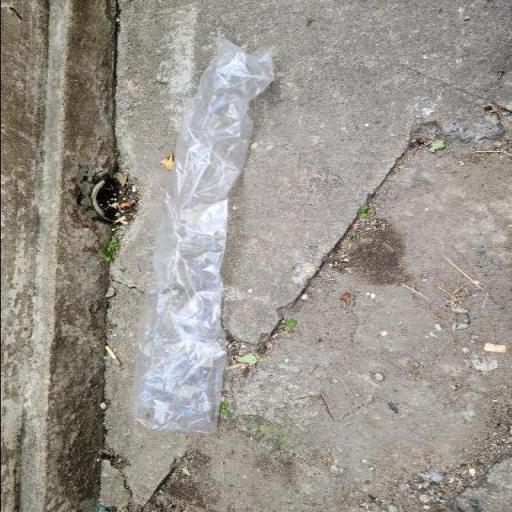plastic-bag: (132, 36, 282, 439)
